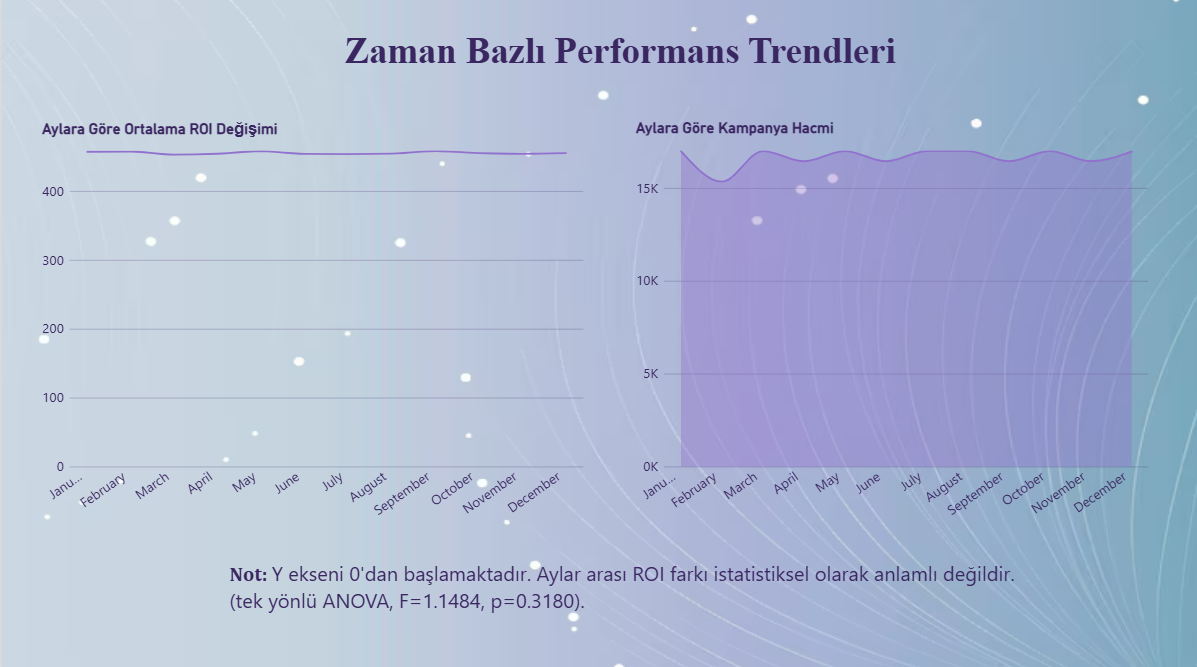

Layout of this report page (visuals, bound fields, positions):
{"tool":"powerbi","page":{"name":"Zaman Trendleri","canvas":[1920,1080],"ordinal":2},"visuals":[{"type":"areaChart","title":"Aylara Göre Kampanya Hacmi","fields":{"Category":["temiz_kampanya_verisi.campaign_date.Variation.Date Hierarchy.Month"],"Y":["temiz_kampanya_verisi.Toplam Kampanya"]},"box":[998,180,852,688],"z":2000},{"type":"textbox","box":[48,52,174,326],"z":3000},{"type":"textbox","box":[548,52,898,78],"z":4000},{"type":"lineChart","title":"Aylara Göre Ortalama ROI Değişimi","fields":{"Category":["temiz_kampanya_verisi.campaign_date.Variation.Date Hierarchy.Month"],"Y":["temiz_kampanya_verisi.Ortalama ROI"]},"box":[48,180,898,688],"z":4001},{"type":"textbox","box":[363.7,899.4,1266.8,94.1],"z":4002}]}

Visuals, with their boxes in screenshot pixels (x1, y1, x2, y2), scaled from the page's 1920x1080 canvas onto the 1197x667 screenshot:
"Aylara Göre Kampanya Hacmi" areaChart: BBox(622, 111, 1153, 536)
textbox: BBox(30, 32, 138, 233)
textbox: BBox(342, 32, 901, 80)
"Aylara Göre Ortalama ROI Değişimi" lineChart: BBox(30, 111, 590, 536)
textbox: BBox(227, 555, 1017, 614)
